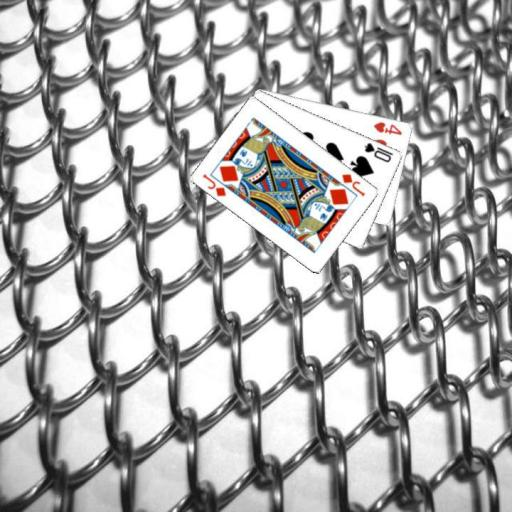10S: (361, 140, 395, 164)
4H: (370, 118, 404, 136)
JD: (339, 171, 367, 198), (200, 171, 227, 198)
